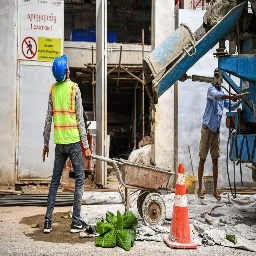helmet: (50, 55, 71, 84)
person: (36, 51, 99, 230)
vest: (47, 77, 83, 149)
